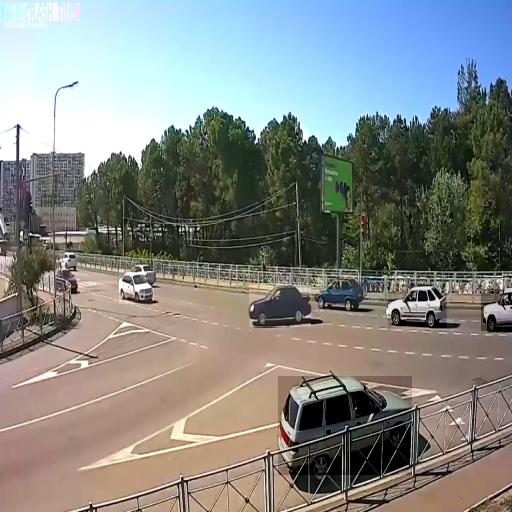小汽车: (278, 376, 412, 475), (249, 284, 311, 328), (388, 284, 447, 328), (315, 278, 363, 309), (481, 289, 512, 331), (119, 268, 154, 304), (59, 248, 78, 270)
